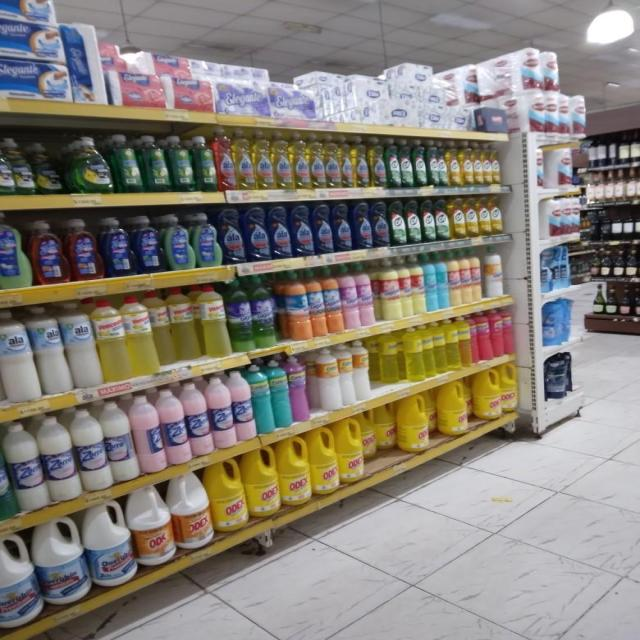ala_conc_amarillo: (234, 129, 253, 190), (254, 130, 273, 190), (274, 131, 292, 190), (292, 132, 309, 190), (325, 134, 341, 188), (310, 133, 324, 189), (370, 136, 385, 188), (354, 136, 369, 188), (341, 135, 353, 189)
ala_conc_azul: (219, 207, 244, 265), (244, 205, 268, 262), (269, 203, 291, 260), (291, 202, 312, 257), (313, 201, 332, 254), (334, 200, 352, 252), (353, 200, 371, 250), (372, 200, 389, 248)
ala_conc_rojo: (216, 129, 234, 192)
ala_crem_blanco: (0, 310, 37, 402), (36, 306, 67, 396), (67, 302, 99, 389)
cif_conc_bot_amarilla: (447, 140, 460, 187), (450, 197, 464, 240), (461, 141, 473, 186), (465, 196, 477, 238), (491, 196, 503, 235), (478, 196, 489, 236), (474, 142, 484, 185), (492, 143, 502, 185), (483, 142, 492, 185)
cif_conc_botella_verde: (428, 139, 444, 187), (390, 199, 405, 246), (386, 138, 399, 188), (436, 197, 450, 242), (406, 199, 420, 244), (413, 139, 426, 187), (400, 139, 412, 188), (422, 198, 434, 243)
esencial: (200, 283, 229, 358), (228, 280, 254, 353), (253, 276, 279, 348), (314, 347, 342, 412), (377, 331, 402, 385), (273, 359, 292, 429), (291, 355, 310, 423), (403, 326, 425, 382), (340, 343, 356, 407), (475, 312, 492, 362), (458, 315, 474, 368), (432, 320, 447, 375), (446, 317, 461, 370), (422, 322, 435, 378), (491, 309, 505, 357)
gigante: (281, 270, 312, 340), (379, 258, 402, 320), (358, 263, 378, 327), (326, 266, 344, 334), (310, 268, 327, 337), (343, 264, 360, 329), (484, 250, 506, 298), (426, 254, 442, 312), (412, 254, 427, 315), (435, 253, 450, 309), (401, 256, 415, 316), (449, 252, 464, 306), (471, 252, 484, 302), (462, 251, 474, 304)
magistral_con_azul: (626, 241, 638, 270)
zorro: (31, 220, 67, 285), (0, 211, 29, 290), (68, 218, 101, 281), (103, 216, 132, 277), (164, 213, 193, 270), (134, 215, 162, 274), (194, 212, 219, 268)
